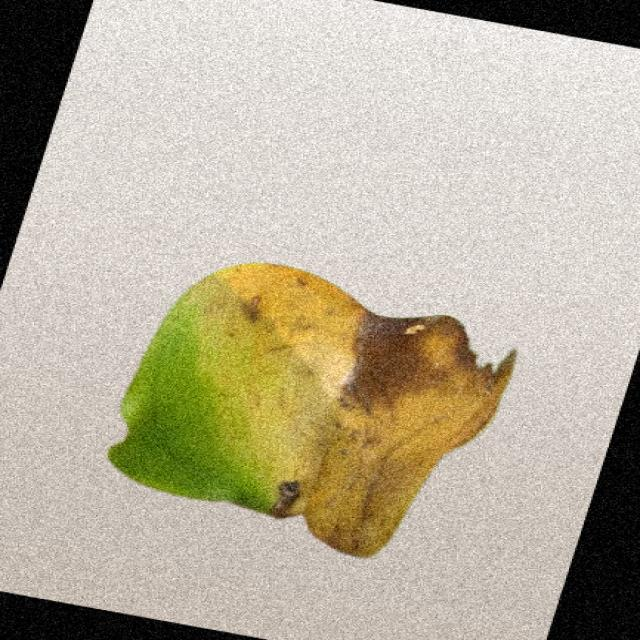daun berpenyakit kuning: (108, 264, 515, 556)
